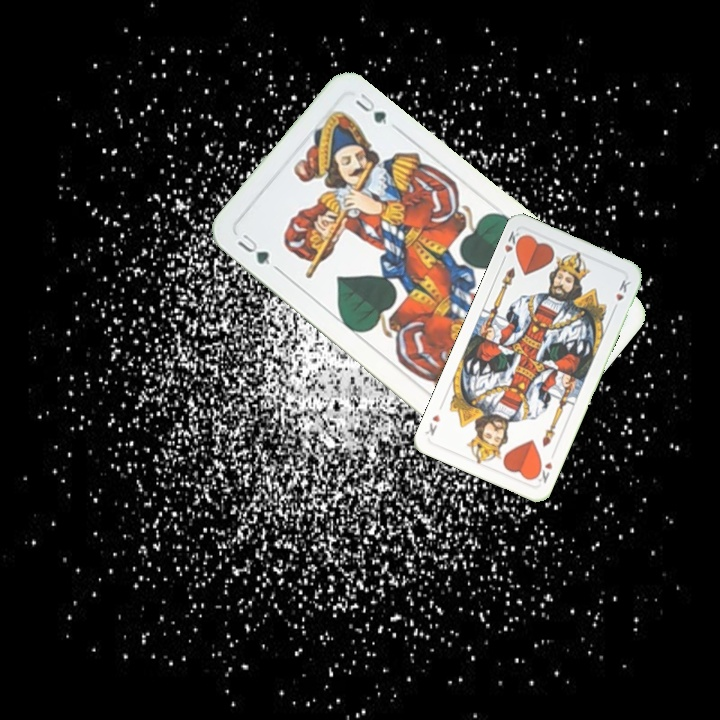GU: (233, 229, 274, 268)
HK: (498, 227, 526, 265), (531, 458, 555, 486)
